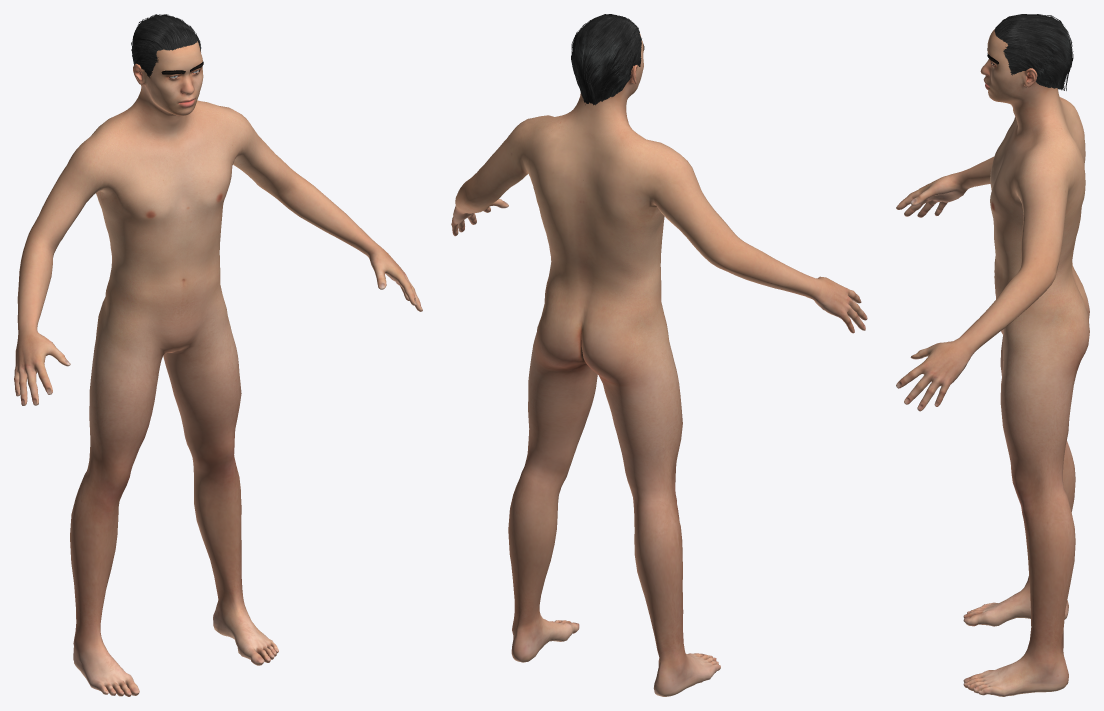
Rendered from makehuman_head.obj.
3 views of the same model, side by side, from view 1: azimuth 30°, elevation 25°; view 2: azimuth 150°, elevation 25°; view 3: azimuth 270°, elevation 25° (orthographic).
Parts seen in each view (by area): view 1: Human, Human.short04; view 2: Human, Human.short04; view 3: Human, Human.short04.
Boxes of the visible parts, x1=… form: Human: x1=14, y1=41, x2=422, y2=696; Human.short04: x1=131, y1=14, x2=201, y2=77; Human: x1=451, y1=33, x2=867, y2=696; Human.short04: x1=571, y1=14, x2=641, y2=105; Human: x1=896, y1=29, x2=1089, y2=696; Human.short04: x1=994, y1=14, x2=1073, y2=90.
Size of the model in its own units: 1.13 by 1.73 by 0.4752.
